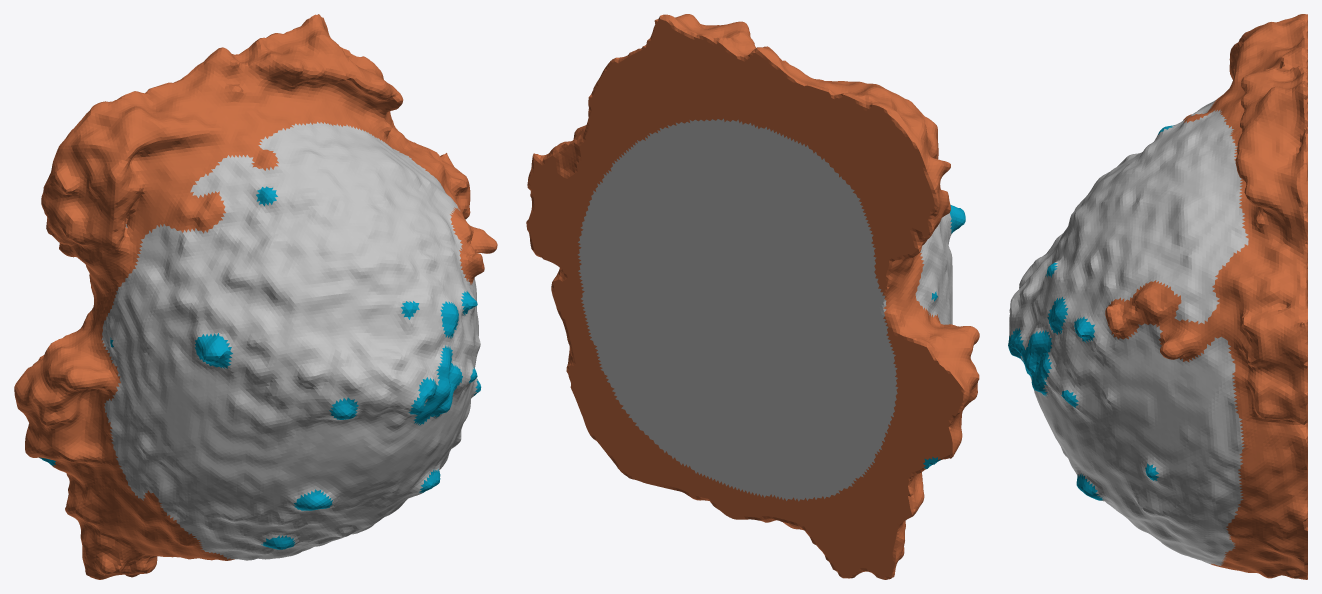
3 views of the same model, side by side, from view 1: azimuth 30°, elevation 25°; view 2: azimuth 150°, elevation 25°; view 3: azimuth 270°, elevation 25° (orthographic).
Size of the model in its own units: 112 by 127 by 65.12.
